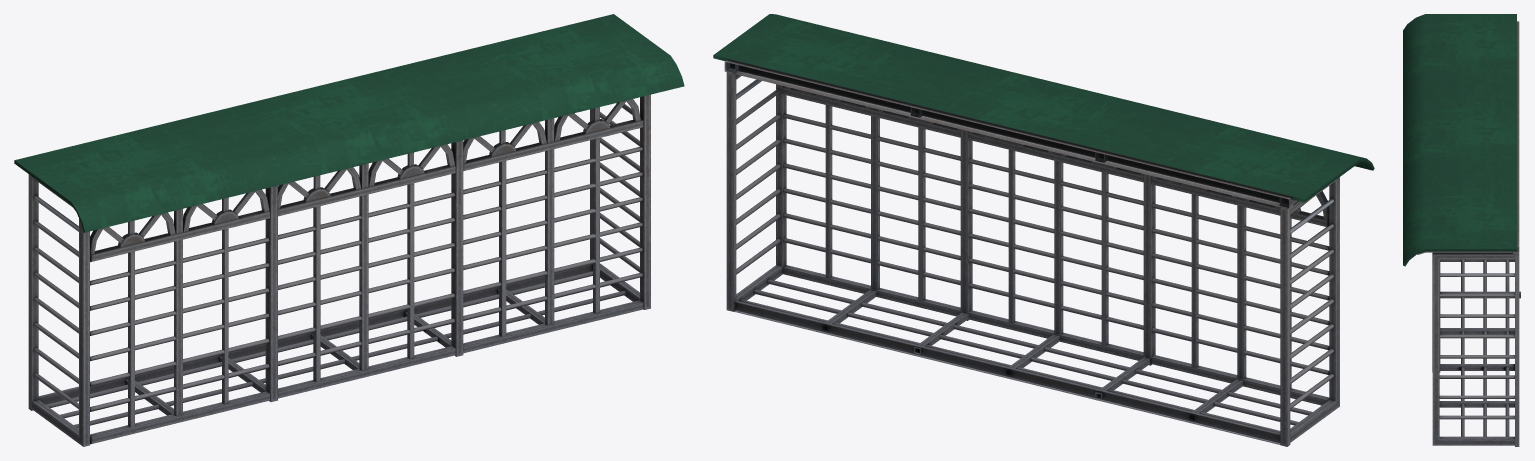
Rendered from Iron_window_v1.fbx.
3 views of the same model, side by side, from view 1: azimuth 30°, elevation 25°; view 2: azimuth 150°, elevation 25°; view 3: azimuth 270°, elevation 25° (orthographic). The views are drawn at different scales.
Visible parts, largest first — view 1: Iron_window_v1; view 2: Iron_window_v1; view 3: Iron_window_v1.
Part boxes in pixels (left/top/right/bottom): Iron_window_v1: left=14, top=14, right=684, bottom=446; Iron_window_v1: left=713, top=14, right=1374, bottom=446; Iron_window_v1: left=1403, top=14, right=1520, bottom=446.
Size of the model in its own units: 584 by 236 by 124.
